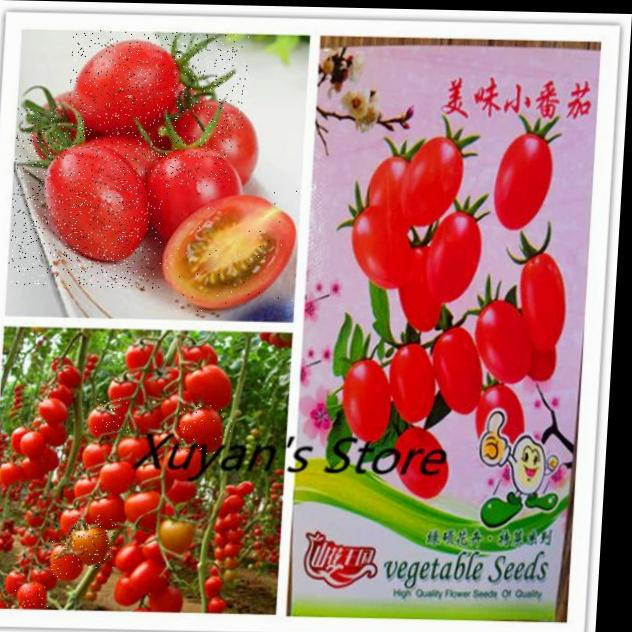Tomato: (7, 107, 164, 289), (68, 30, 249, 132), (157, 187, 299, 316), (130, 100, 237, 256), (66, 514, 117, 568), (178, 405, 233, 455), (89, 397, 132, 435), (14, 581, 50, 611), (47, 538, 73, 579)
